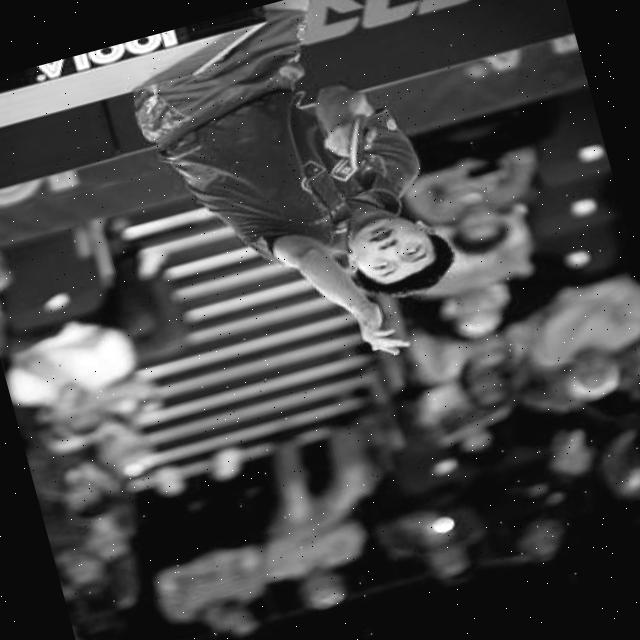ping-pong-ball: (428, 512, 458, 534)
